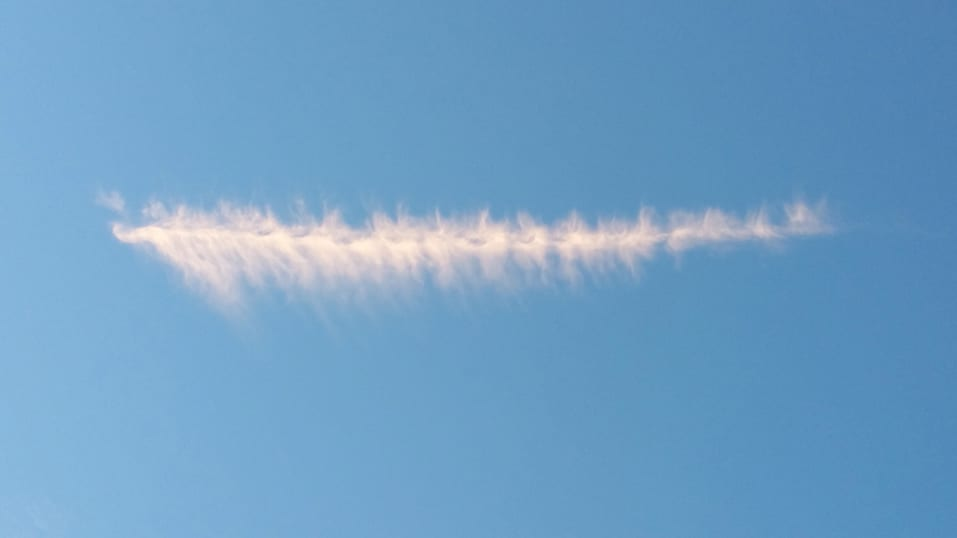Cirrus: (82, 135, 866, 349)
